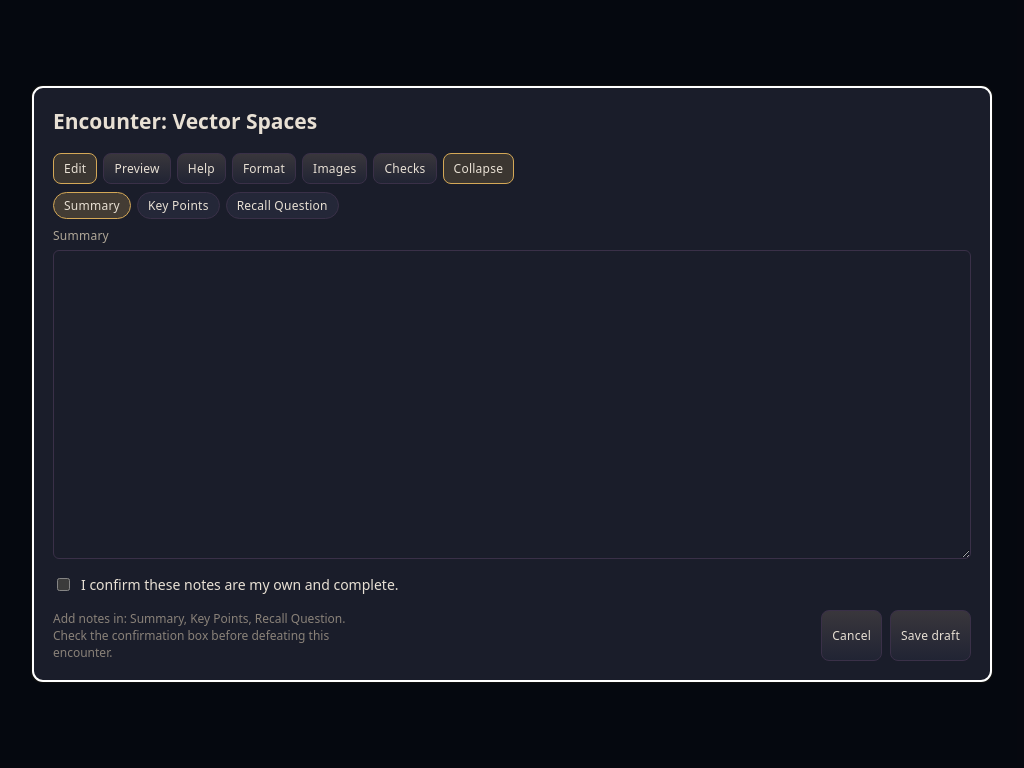
Test: NoteEditorModal › keeps the image library collapsed until expanded
Click the button "Images".
click(335, 168)  # box [302, 152, 368, 184]
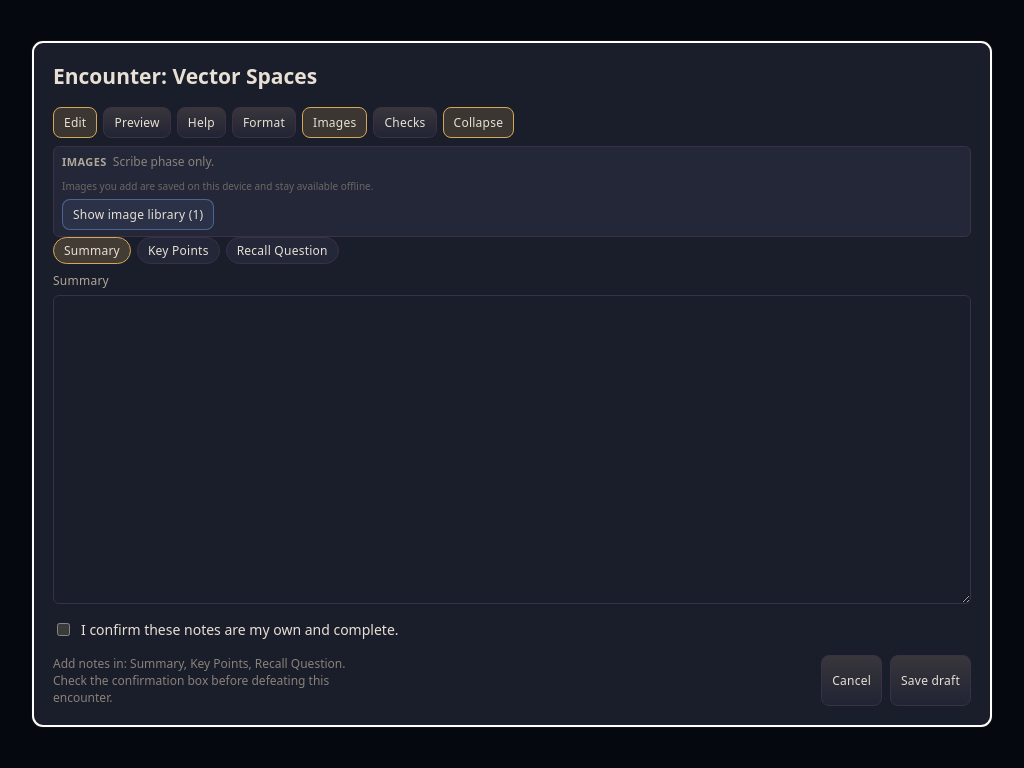
Expected: the text "diagram.png" is not shown
Expected: the button "Show image library (1)" is shown
Click the button "Show image library (1)".
click(138, 214)  # box [62, 199, 214, 230]
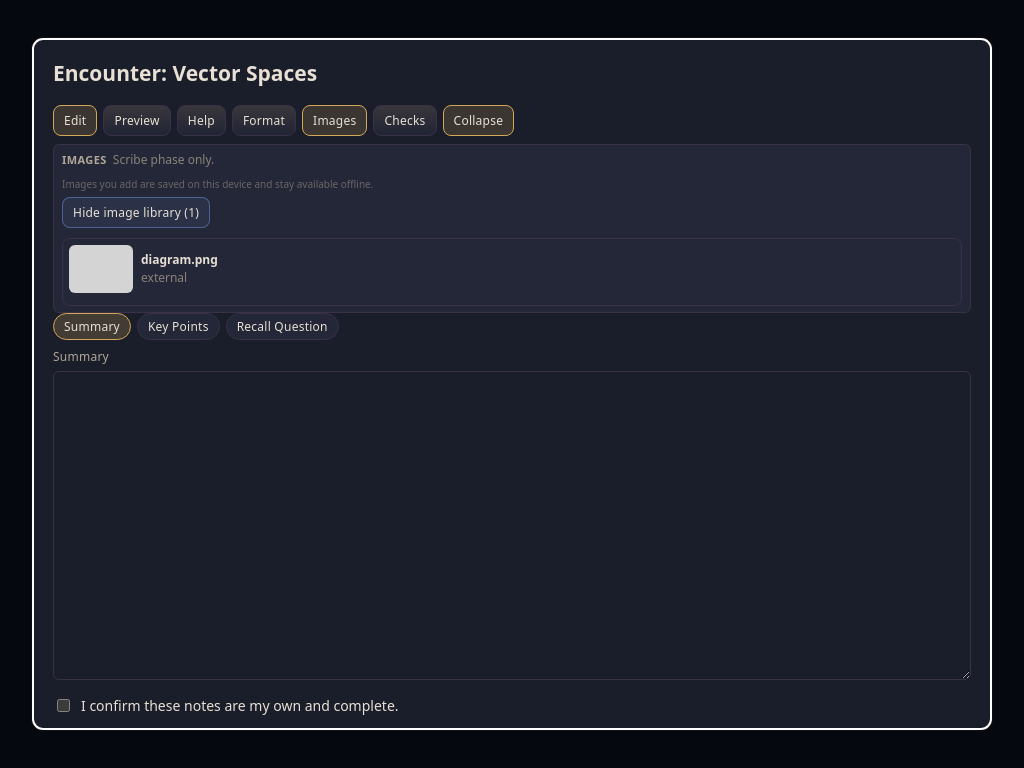
Expected: the text "diagram.png" is shown, [141, 251, 218, 268]
